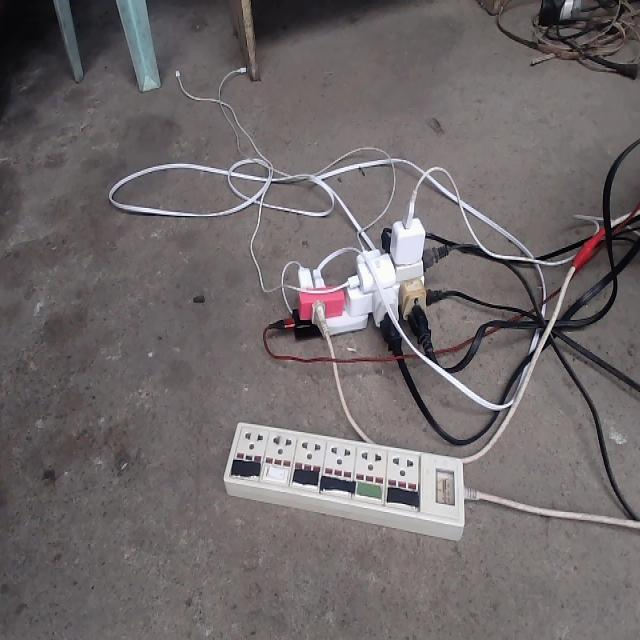-: (261, 185, 457, 360)
